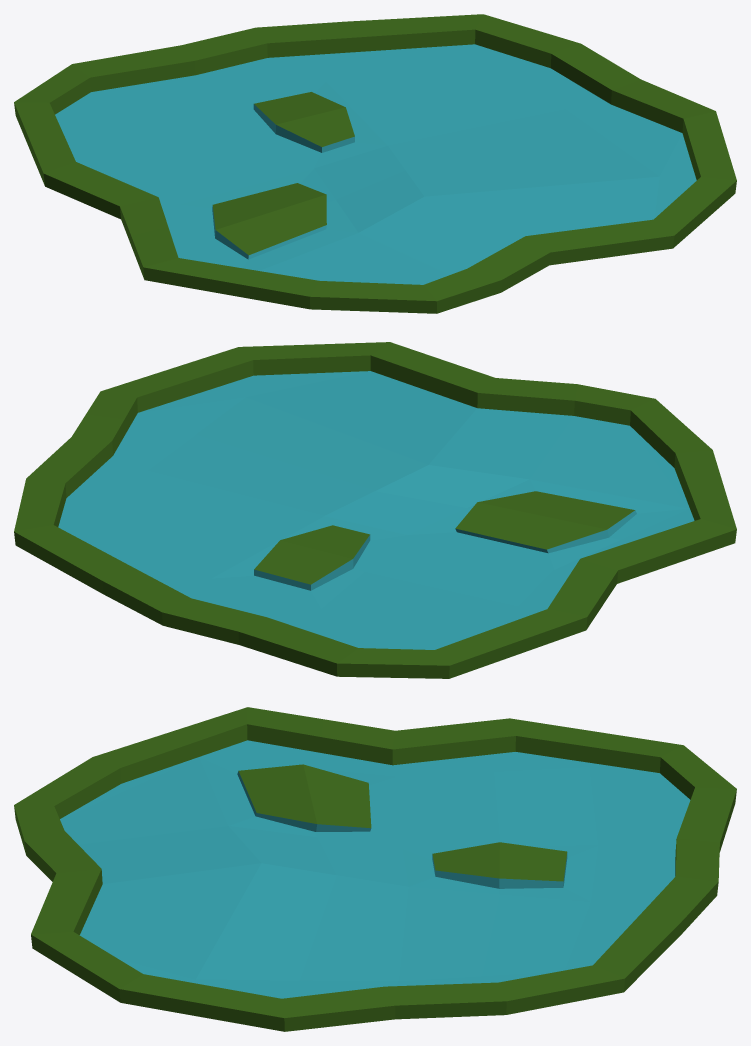
The model's file is lagonenufar.fbx.
3 renders of one model, top to bottom at view 1: azimuth 30°, elevation 25°; view 2: azimuth 150°, elevation 25°; view 3: azimuth 270°, elevation 25°, orthographic. The views are drawn at different scales.
Parts seen in each view (by area): view 1: Plane; view 2: Plane; view 3: Plane.
Boxes of the visible parts, x1=… form: Plane: x1=14, y1=14, x2=736, y2=313; Plane: x1=14, y1=342, x2=736, y2=678; Plane: x1=14, y1=707, x2=736, y2=1031.
Bounding box in the file's own units: 280 × 8.09 × 275.
